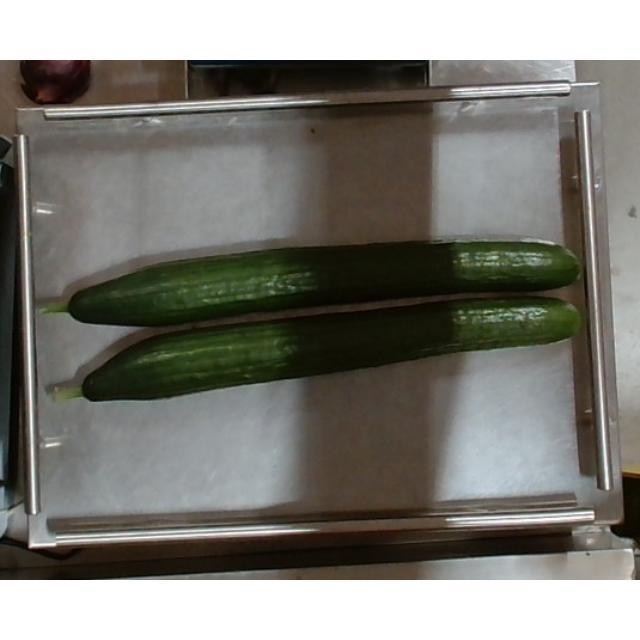cucumber: (52, 303, 580, 405), (43, 239, 589, 325)
